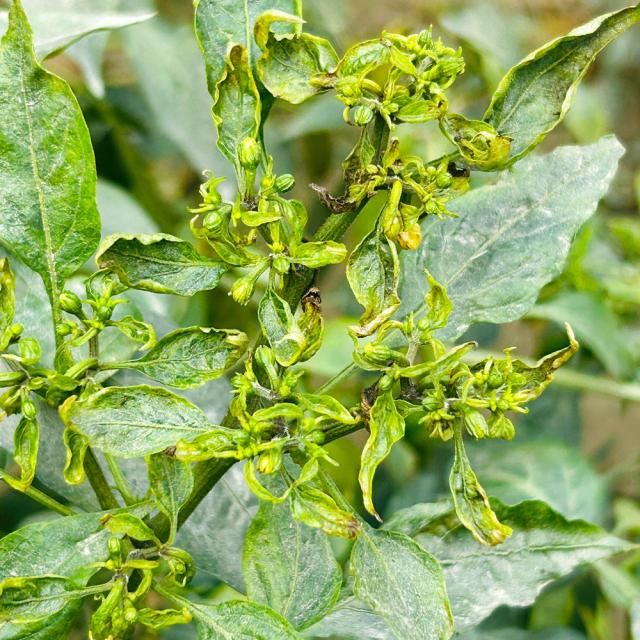Chilli_Leaf_Curl: (1, 0, 636, 638), (412, 131, 627, 345), (0, 0, 102, 366), (441, 3, 639, 173), (64, 383, 236, 460), (94, 230, 229, 298)
